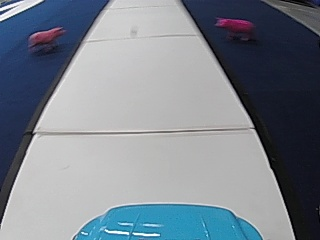pig: (213, 13, 254, 43), (27, 23, 65, 55)
